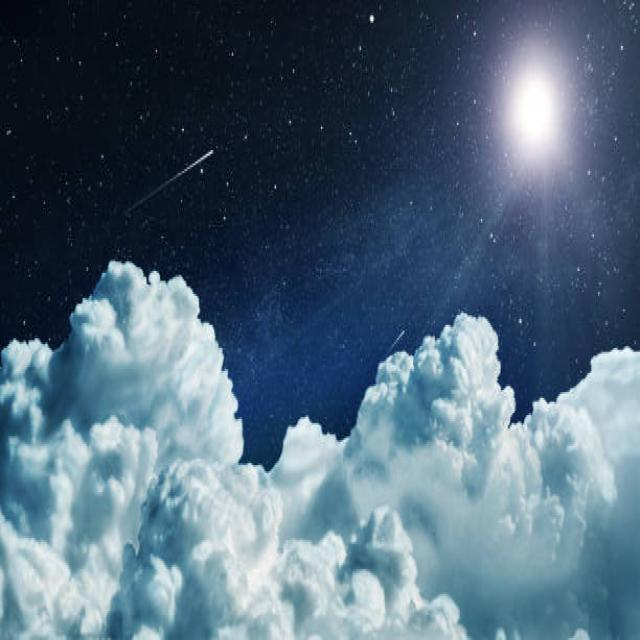moon: (507, 63, 561, 156)
